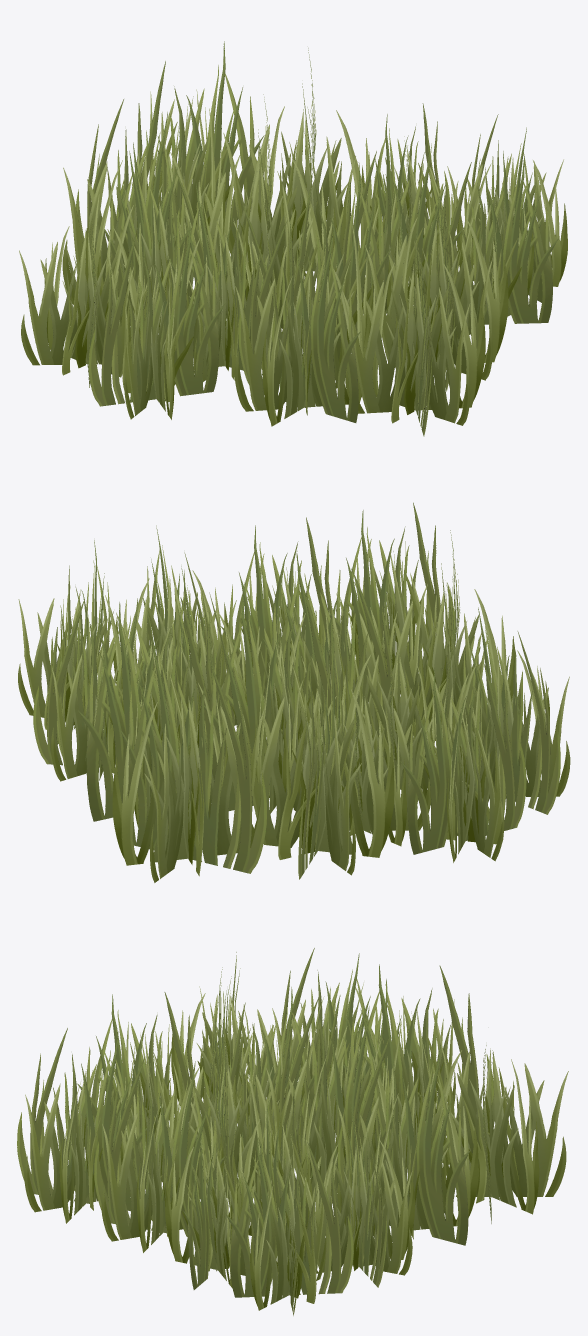
Rendered from GrassChunk2.fbx.
3 views of the same model, one above another, from view 1: azimuth 30°, elevation 25°; view 2: azimuth 150°, elevation 25°; view 3: azimuth 270°, elevation 25° (orthographic). The views are drawn at different scales.
Parts seen in each view (by area): view 1: GrassChunk2; view 2: GrassChunk2; view 3: GrassChunk2.
Part boxes in pixels (x1,y1,x2,y2): GrassChunk2: (19, 41, 567, 436); GrassChunk2: (18, 502, 570, 882); GrassChunk2: (17, 948, 568, 1315).
Size of the model in its own units: 2.23 by 0.8958 by 2.22.
